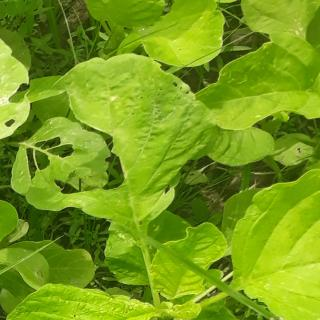virus_keriting: (0, 280, 164, 320)
